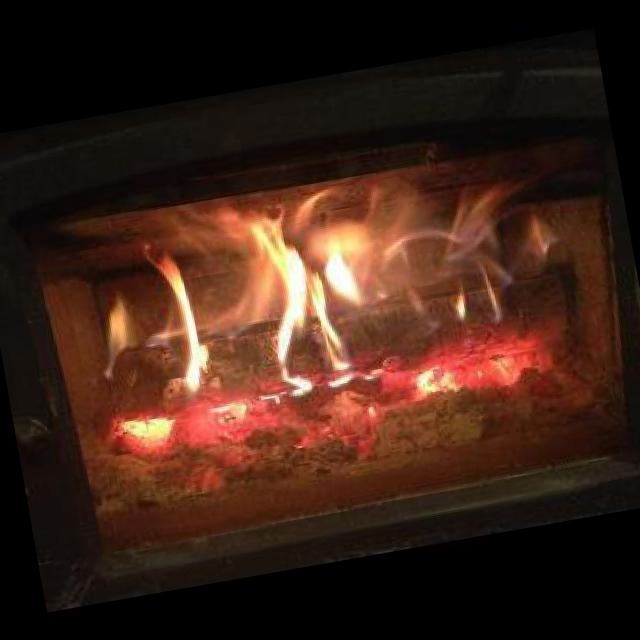Fire: (68, 141, 578, 492)
